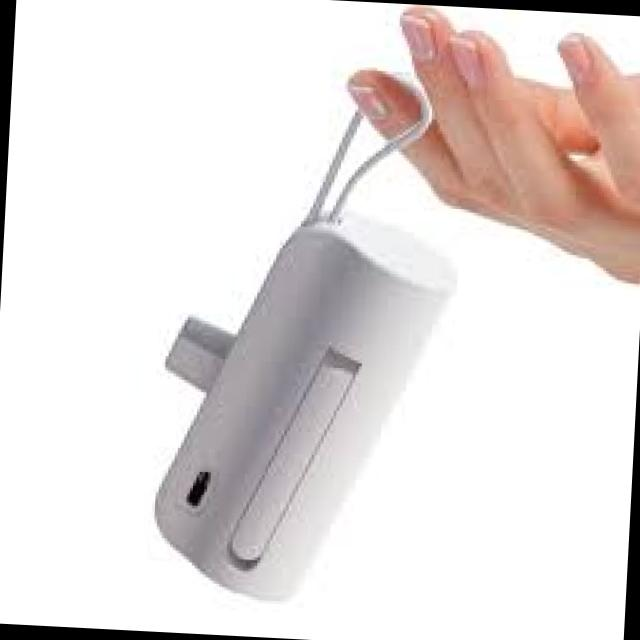power_bank: (147, 199, 466, 616)
